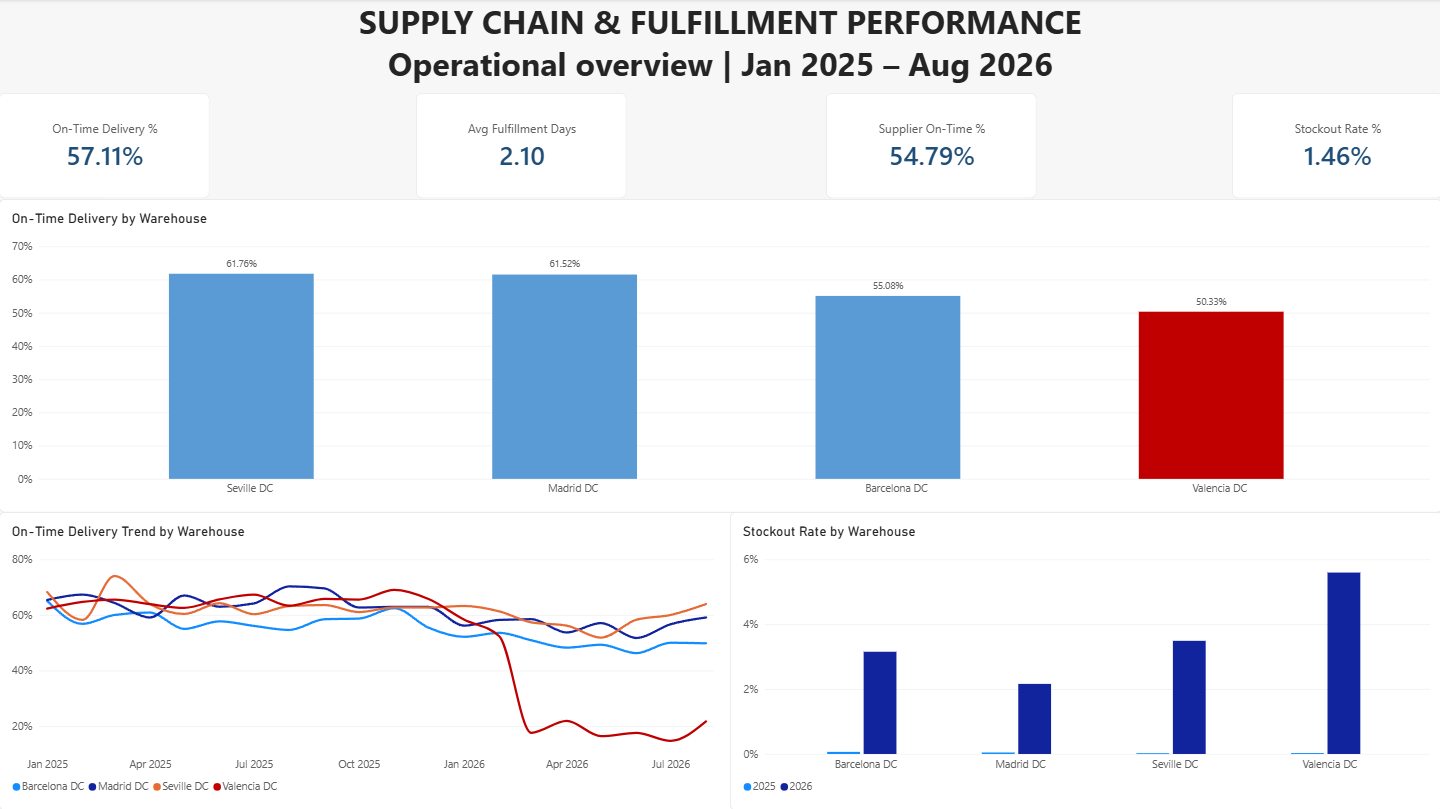

Layout of this report page (visuals, bound fields, positions):
{"tool":"powerbi","page":{"name":"Operations Overview","canvas":[1920,1080],"ordinal":0},"visuals":[{"type":"cardVisual","fields":{"Data":["shipments.On-Time Delivery %"]},"box":[0,125.5,280.1,140.1],"z":0},{"type":"cardVisual","fields":{"Data":["shipments.Avg Fulfillment Days"]},"box":[554.4,125.5,280.1,140.1],"z":1000},{"type":"cardVisual","fields":{"Data":["purchase_orders.Supplier On-Time %"]},"box":[1100.1,125.5,280.1,140.1],"z":2000},{"type":"cardVisual","fields":{"Data":["inventory.Stockout Rate %"]},"box":[1639.9,125.5,280.1,140.1],"z":3000},{"type":"clusteredColumnChart","title":"On-Time Delivery by Warehouse","fields":{"Category":["warehouses_fixed.warehouse_name"],"Y":["shipments.On-Time Delivery %"]},"box":[0,265.5,1920,417.3],"z":4000},{"type":"lineChart","title":"On-Time Delivery Trend by Warehouse","fields":{"Y":["shipments.On-Time Delivery %"],"Series":["warehouses_fixed.warehouse_name"],"Category":["orders.order_date.Variation.Date Hierarchy.Year","orders.order_date.Variation.Date Hierarchy.Month"]},"box":[0,682.8,983.3,396.8],"z":5000},{"type":"clusteredColumnChart","title":"Stockout Rate by Warehouse","fields":{"Category":["warehouses_fixed.warehouse_name"],"Y":["inventory.Stockout Rate %"],"Series":["inventory.snapshot_date.Variation.Date Hierarchy.Year"]},"box":[971.7,682.8,948.3,396.8],"z":6001},{"type":"textbox","box":[246.6,0,1426.9,113.8],"z":6002}]}

Visuals, with their boxes in screenshot pixels (x1, y1, x2, y2), scaled from the page's 1920x1080 canvas onto the 1440x809 screenshot:
cardVisual - shipments.On-Time Delivery %: <region>0, 94, 210, 199</region>
cardVisual - shipments.Avg Fulfillment Days: <region>416, 94, 626, 199</region>
cardVisual - purchase_orders.Supplier On-Time %: <region>825, 94, 1035, 199</region>
cardVisual - inventory.Stockout Rate %: <region>1230, 94, 1439, 199</region>
"On-Time Delivery by Warehouse" clusteredColumnChart: <region>0, 199, 1439, 511</region>
"On-Time Delivery Trend by Warehouse" lineChart: <region>0, 511, 737, 808</region>
"Stockout Rate by Warehouse" clusteredColumnChart: <region>729, 511, 1439, 808</region>
textbox: <region>185, 0, 1255, 85</region>
